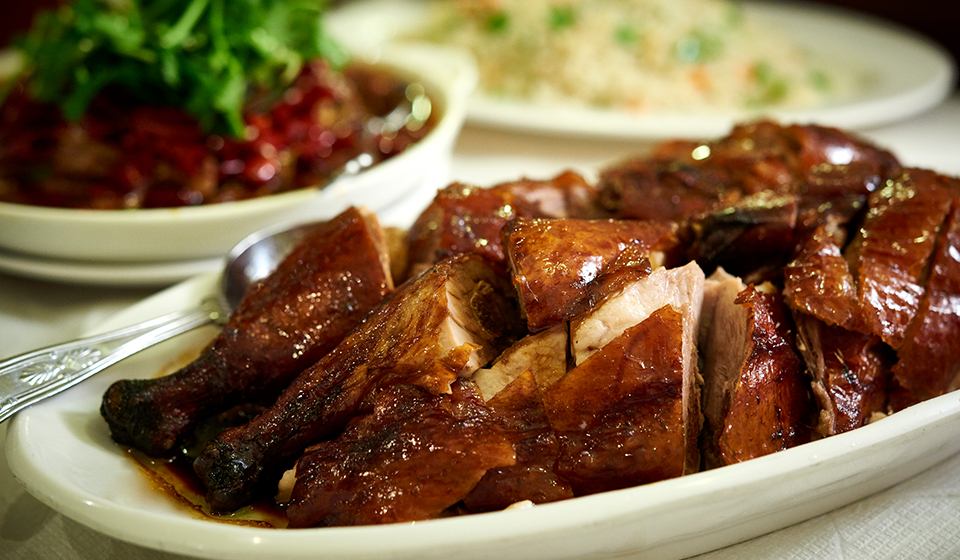peking_duck: (64, 72, 960, 535)
